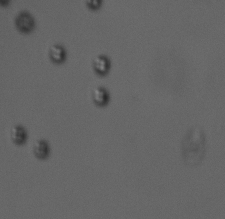Dead Cell: (30, 138, 49, 159), (90, 87, 111, 106), (15, 11, 34, 30), (9, 124, 27, 144), (93, 55, 111, 75), (48, 44, 65, 63), (83, 1, 104, 10)
